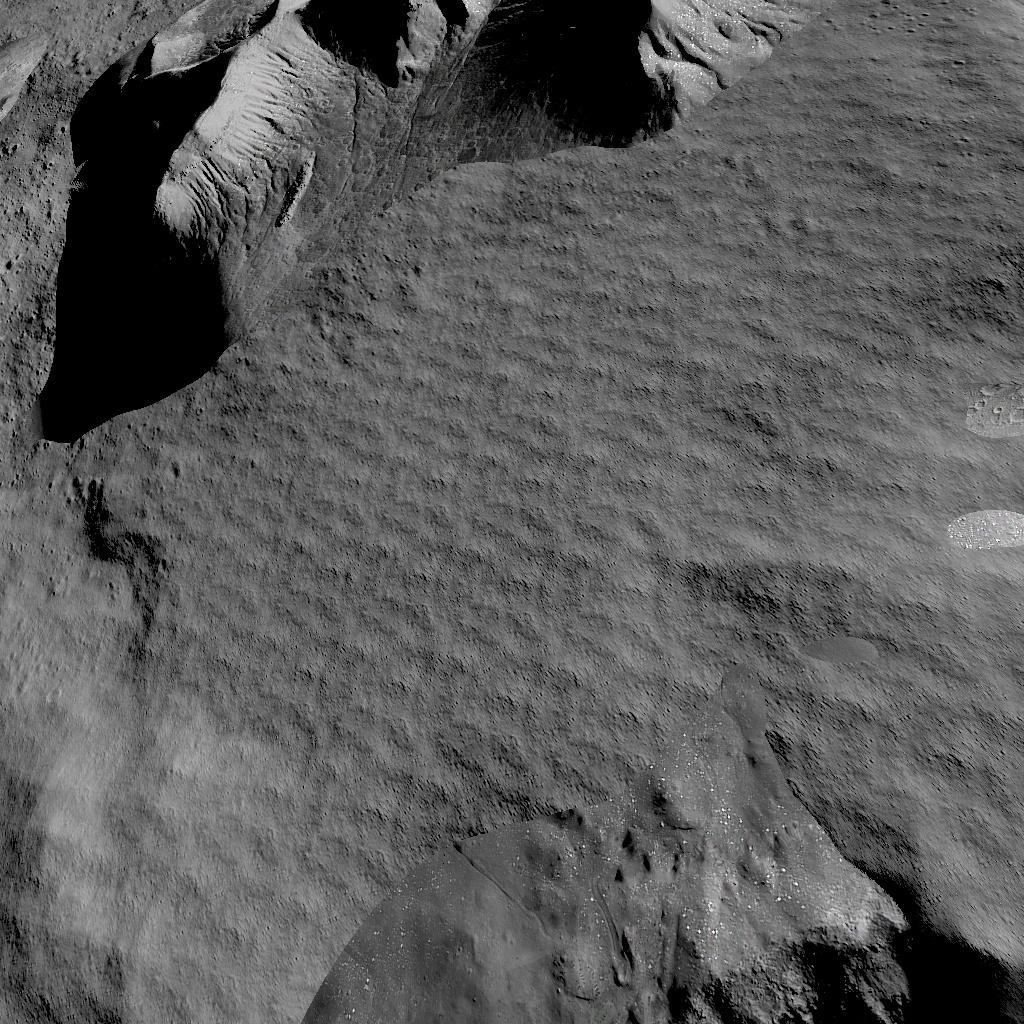Boulders: (34, 0, 840, 445)
Crater: (303, 828, 1024, 1024)
Plan surface: (0, 458, 1024, 816), (853, 2, 1024, 442), (0, 828, 291, 1024)
